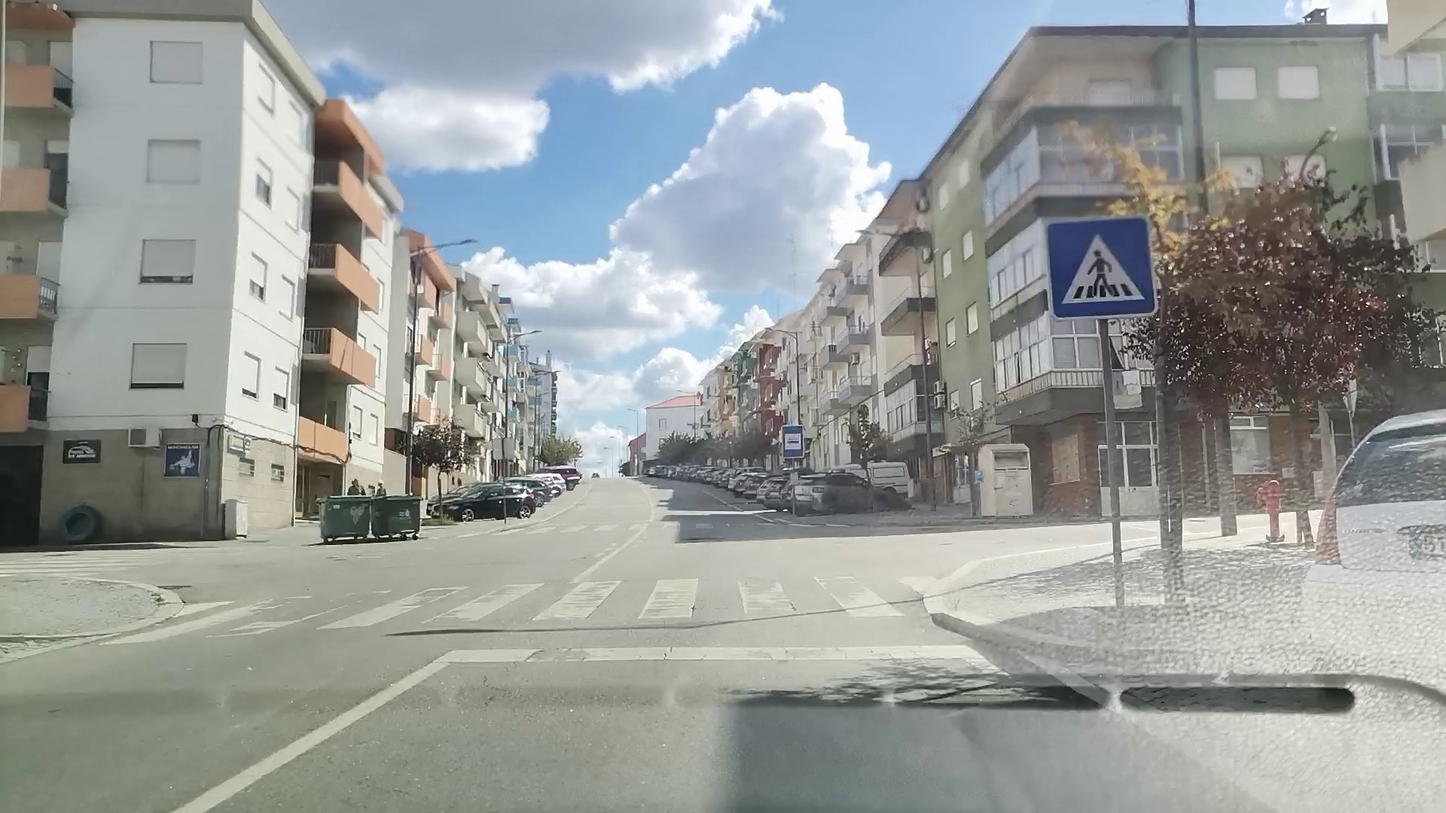Stairs: (95, 572, 958, 644)
